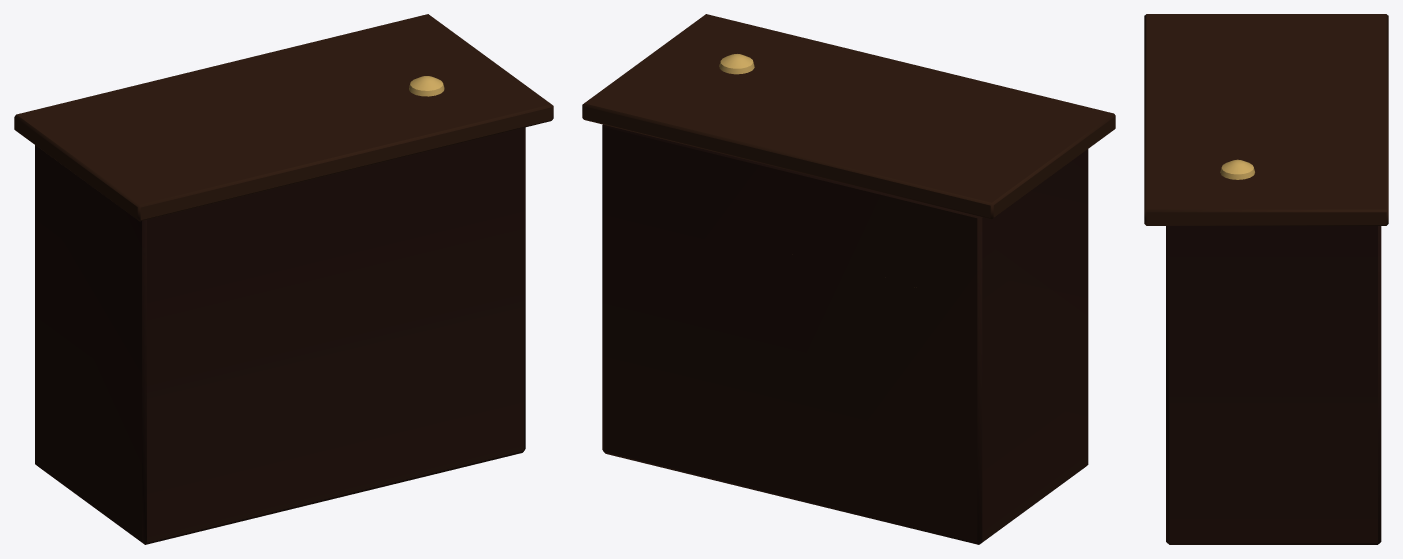
The model's file is fs-concierge-desk.glb.
3 views of the same model, side by side, from view 1: azimuth 30°, elevation 25°; view 2: azimuth 150°, elevation 25°; view 3: azimuth 270°, elevation 25° (orthographic). The views are drawn at different scales.
Parts seen in each view (by area): view 1: body__wood; view 2: body__wood; view 3: body__wood, fittings__brass.
Boxes of the visible parts, box(x1,y1,x2,y2) form: body__wood: box(14, 14, 553, 544); body__wood: box(582, 14, 1115, 544); body__wood: box(1144, 14, 1388, 544); fittings__brass: box(1220, 159, 1254, 179).
Bounding box in the file's own units: 1.3 × 1.09 × 0.68.
